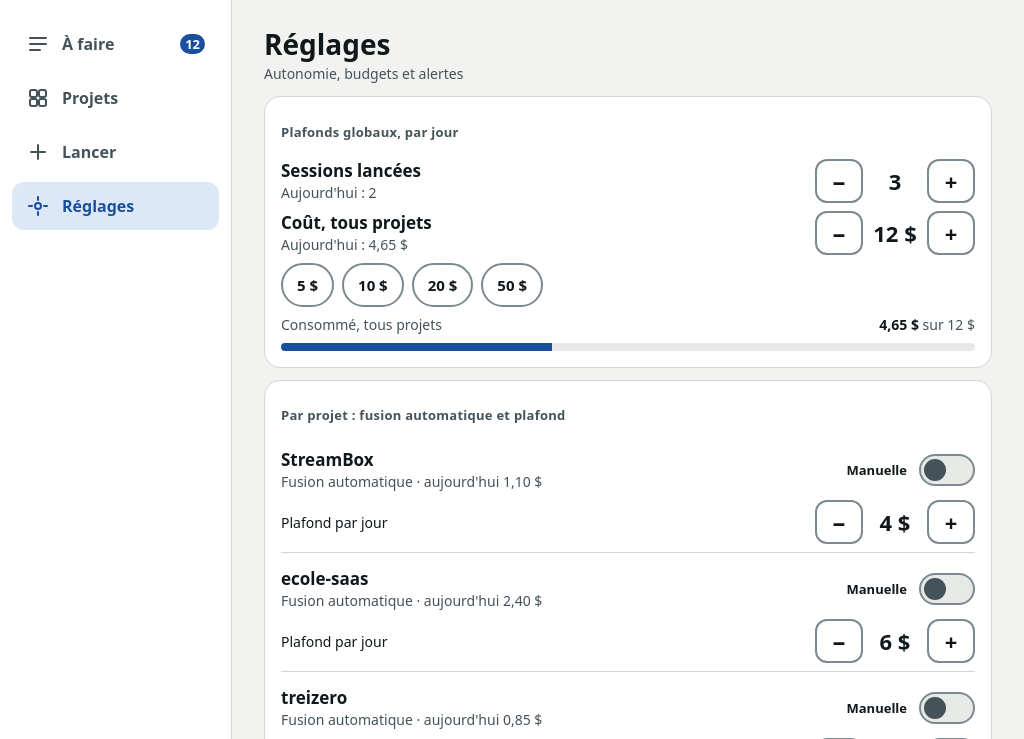
Réglages › plafond global rapide et seuil : la ligne de calcul suit
This screenshot has width=1024, height=739.
Click the button named "Plafond global 20 dollars": (442,285) x1=412 y1=263 x2=473 y2=307
(page scrolled)
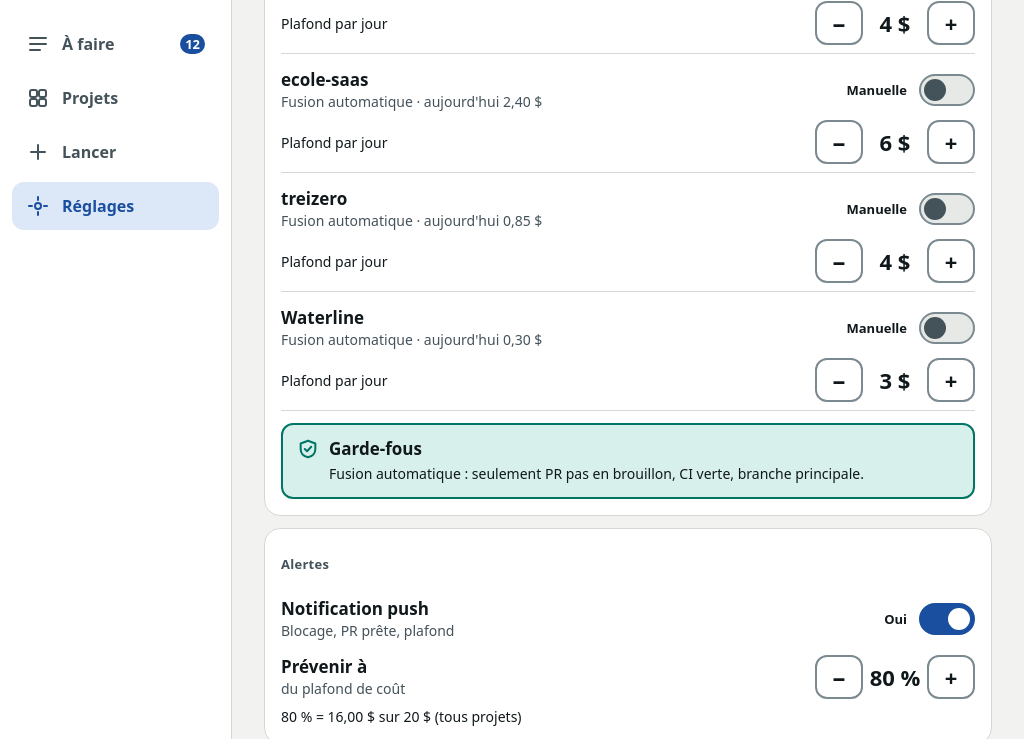
Now the text "80 % = 16,00 $ sur 20 $ (tous projets)" is shown, box x1=281 y1=707 x2=522 y2=726
